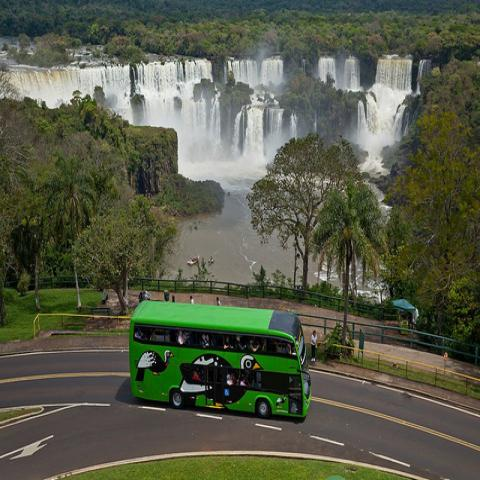bus: (129, 300, 311, 418)
